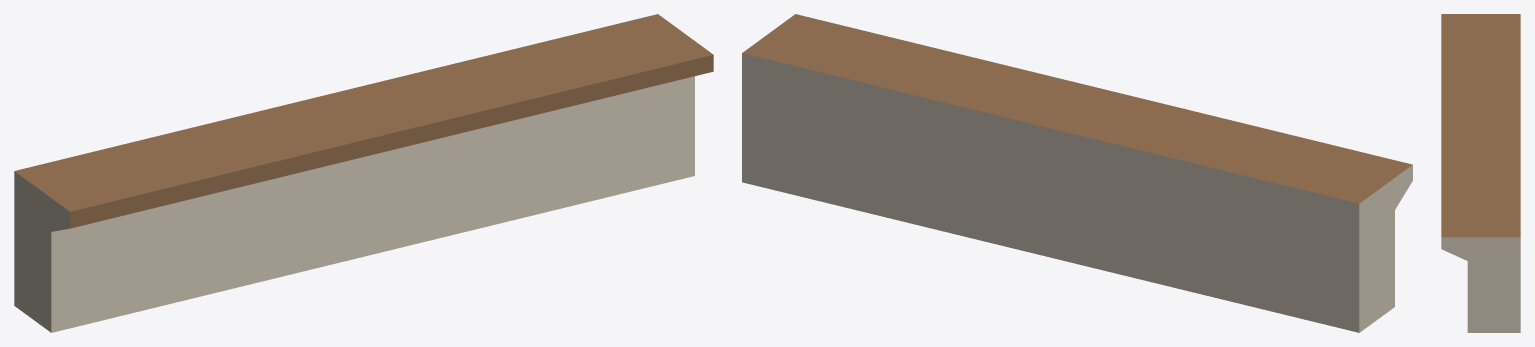
File: Stairs_Indoor_Balcony_Floor_Edge.obj
3 renders of one model, left to right at view 1: azimuth 30°, elevation 25°; view 2: azimuth 150°, elevation 25°; view 3: azimuth 270°, elevation 25°, orthographic. The views are drawn at different scales.
Parts seen in each view (by area): view 1: object1; view 2: object1; view 3: object1.
Part boxes in pixels (x1,y1,x2,y2): object1: (14,14,713,332); object1: (742,14,1412,332); object1: (1441,14,1520,332).
Bounding box in the file's own units: 1 × 0.2 × 0.15.
